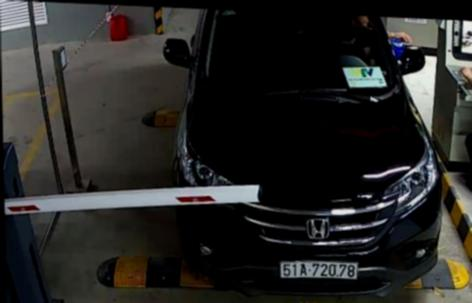License_Plate: (279, 255, 358, 284)
